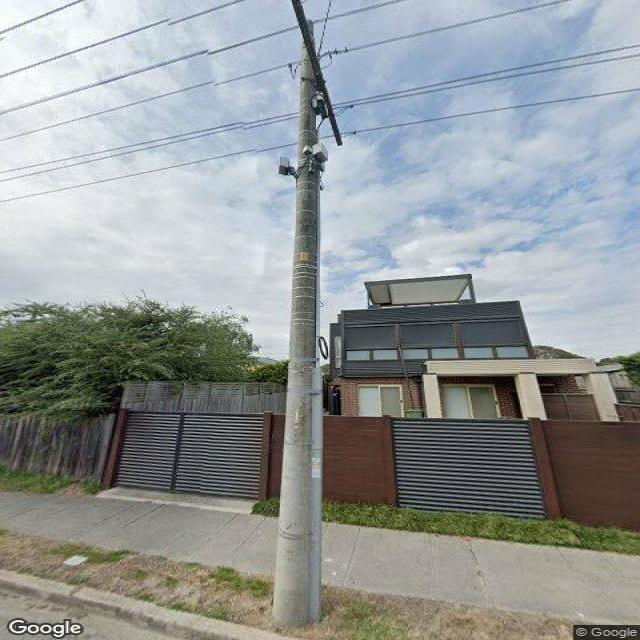concrete-pole: (274, 18, 322, 628)
crossarm: (290, 1, 342, 147)
mid mount suitable pole: (271, 0, 344, 629)
